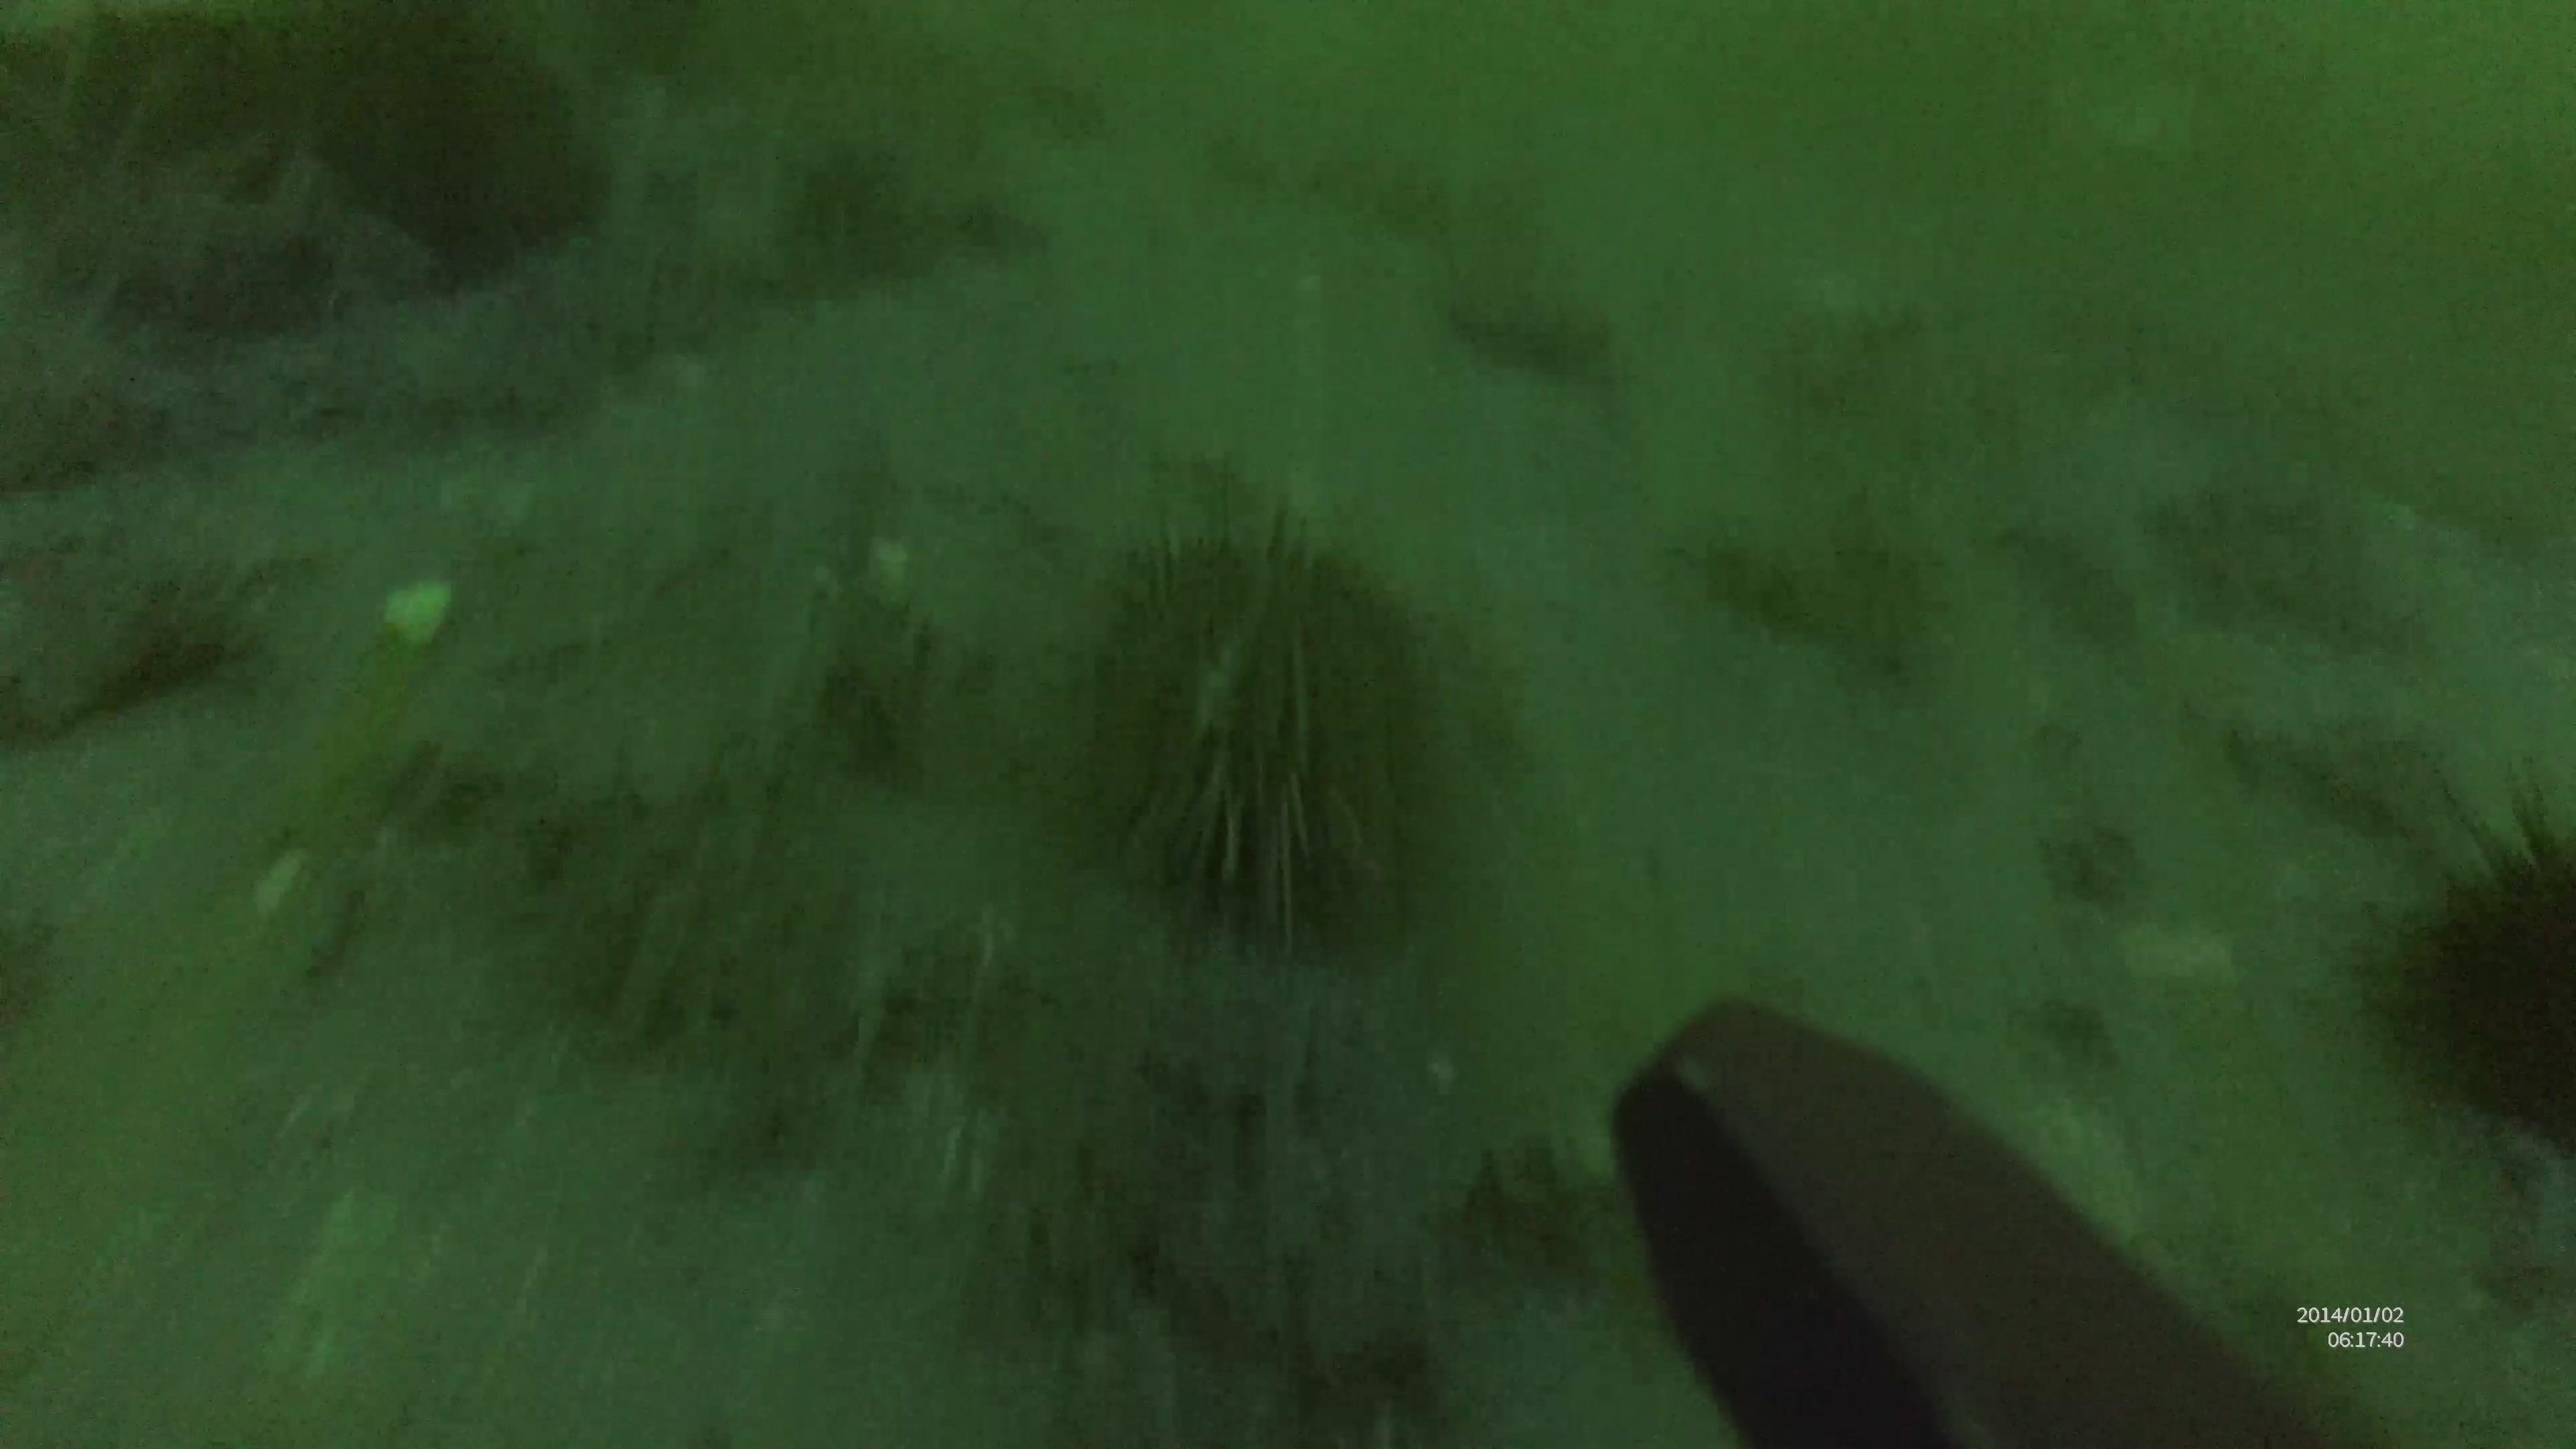echinus: (1079, 527, 1430, 941), (2378, 764, 2576, 1150)
